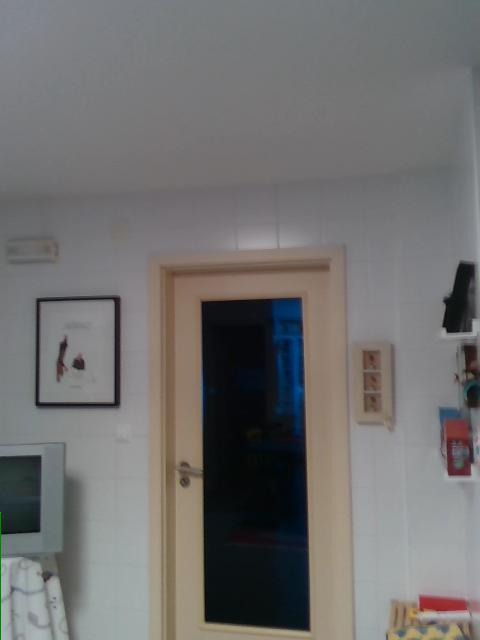closed_door: (152, 246, 352, 639)
